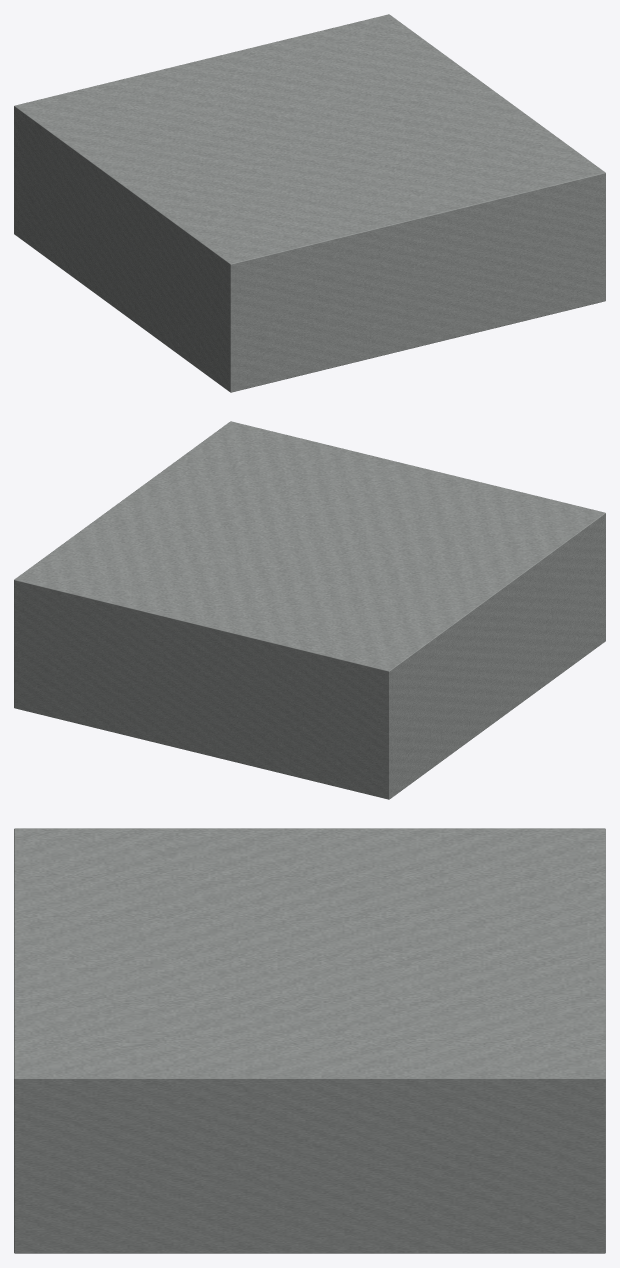
Rendered from liminal-spaces-kit-pool-deck-riser-b842e316__25237.glb.
3 views of the same model, one above another, from view 1: azimuth 30°, elevation 25°; view 2: azimuth 150°, elevation 25°; view 3: azimuth 270°, elevation 25° (orthographic). The views are drawn at different scales.
Visible parts, largest first — view 1: pool-deck-riser; view 2: pool-deck-riser; view 3: pool-deck-riser.
Boxes of the visible parts, x1,y1,x2,y2 form: pool-deck-riser: (14,14,605,392); pool-deck-riser: (14,421,605,799); pool-deck-riser: (14,828,605,1253).
Size of the model in its own units: 2 by 0.6551 by 2.
Materials: 1 (1 with a texture image).
